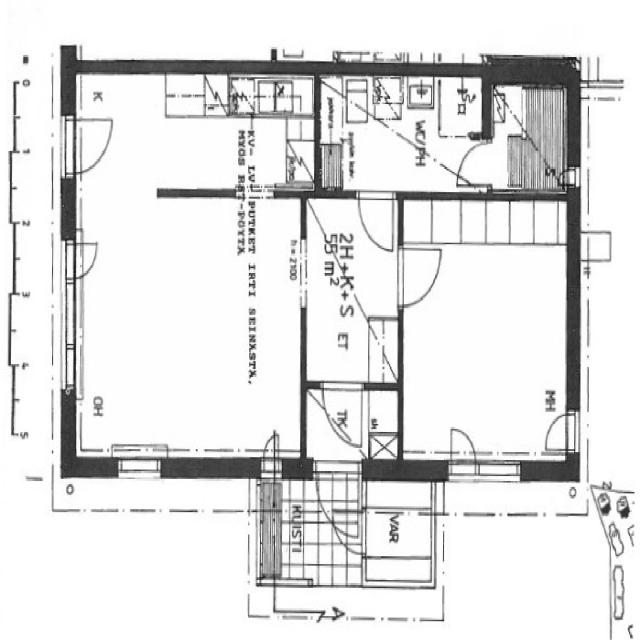door: (310, 378, 366, 451), (62, 110, 116, 176), (394, 238, 445, 307), (354, 188, 398, 256), (437, 419, 480, 475), (536, 408, 584, 458), (454, 135, 494, 191), (66, 232, 102, 280)
window: (56, 257, 83, 401), (109, 448, 169, 486), (472, 454, 526, 488)
zone: (66, 181, 296, 462), (399, 196, 576, 475), (77, 68, 323, 200), (315, 72, 483, 194), (301, 196, 402, 387), (487, 78, 571, 194)
